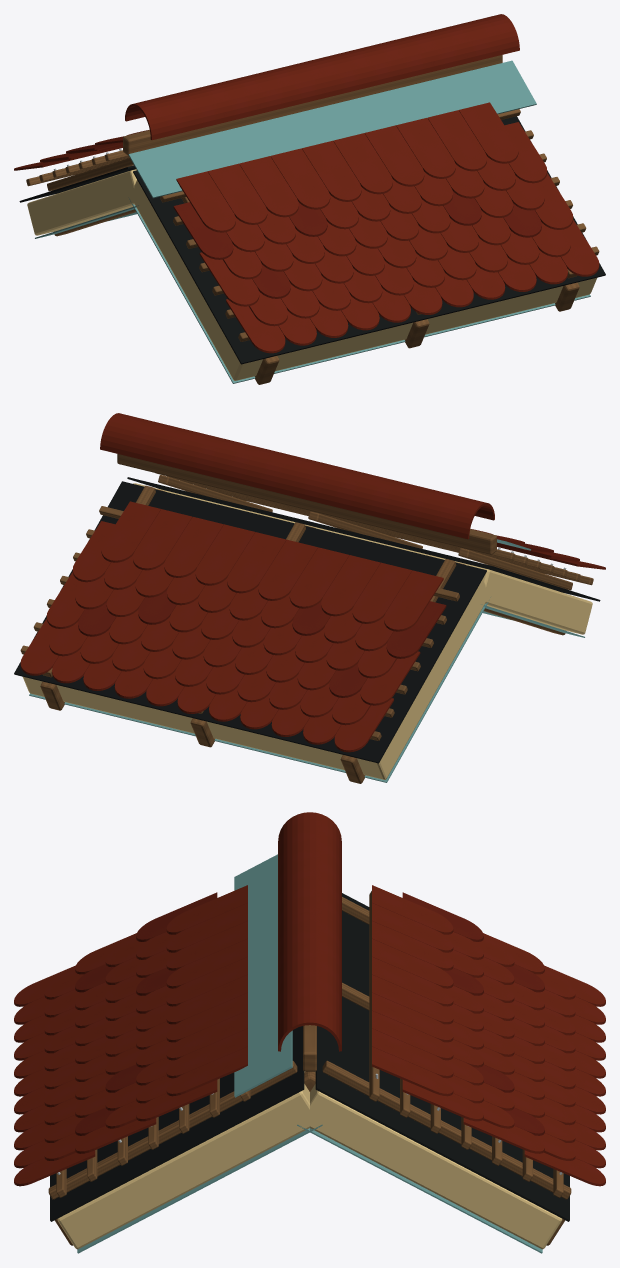
Rendered from modell.glb.
The picture shows the model from 3 angles, top to bottom: view 1: azimuth 30°, elevation 25°; view 2: azimuth 150°, elevation 25°; view 3: azimuth 270°, elevation 25°; orthographic projection. The views are drawn at different scales.
Parts seen in each view (by area): view 1: s05-deckziegel_deckung, s05-firstziegel_deckung, s05-anschluss_zusatzebene, s05-daemmung_daemmung, s05-zusatzebene_zusatzebene, s05-deckziegel_deckung.001, s05-firstlatte_lattung, s05-lattung_lattung, s05-luftdichtheit_luftdichtheit, s05-sparren_tragwerk; view 2: s05-deckziegel_deckung, s05-firstziegel_deckung, s05-zusatzebene_zusatzebene, s05-daemmung_daemmung, s05-lattung_lattung, s05-deckziegel_deckung.001, s05-firstlatte_lattung, s05-luftdichtheit_luftdichtheit, s05-sparren_tragwerk; view 3: s05-deckziegel_deckung, s05-daemmung_daemmung, s05-zusatzebene_zusatzebene, s05-firstziegel_deckung, s05-lattung_lattung, s05-anschluss_zusatzebene, s05-deckziegel_deckung.001, s05-luftdichtheit_luftdichtheit, s05-firstlatte_lattung.
Boxes of the visible parts, x1,y1,x2,y2 form: s05-deckziegel_deckung: (14, 102, 599, 353); s05-firstziegel_deckung: (125, 14, 519, 140); s05-anschluss_zusatzebene: (128, 60, 536, 198); s05-daemmung_daemmung: (27, 169, 596, 380); s05-zusatzebene_zusatzebene: (19, 116, 605, 364); s05-deckziegel_deckung.001: (66, 142, 541, 298); s05-firstlatte_lattung: (123, 55, 502, 155); s05-lattung_lattung: (26, 109, 599, 341); s05-luftdichtheit_luftdichtheit: (35, 197, 590, 383); s05-sparren_tragwerk: (54, 209, 579, 384); s05-deckziegel_deckung: (20, 501, 605, 752); s05-firstziegel_deckung: (100, 413, 494, 539); s05-zusatzebene_zusatzebene: (14, 477, 600, 763); s05-daemmung_daemmung: (23, 483, 592, 779); s05-lattung_lattung: (20, 473, 593, 740); s05-deckziegel_deckung.001: (78, 543, 553, 697); s05-firstlatte_lattung: (117, 454, 496, 554); s05-luftdichtheit_luftdichtheit: (29, 597, 584, 782); s05-sparren_tragwerk: (40, 489, 565, 783); s05-deckziegel_deckung: (14, 885, 605, 1186); s05-daemmung_daemmung: (57, 1071, 562, 1249); s05-zusatzebene_zusatzebene: (50, 893, 569, 1221); s05-firstziegel_deckung: (278, 812, 341, 1051); s05-lattung_lattung: (48, 891, 571, 1199); s05-anschluss_zusatzebene: (234, 854, 292, 1097); s05-deckziegel_deckung.001: (75, 892, 544, 1135); s05-luftdichtheit_luftdichtheit: (77, 1124, 542, 1253); s05-firstlatte_lattung: (303, 1025, 316, 1071).
Size of the model in its own units: 2.21 by 1.15 by 2.51.
7 materials, 3 textured.
